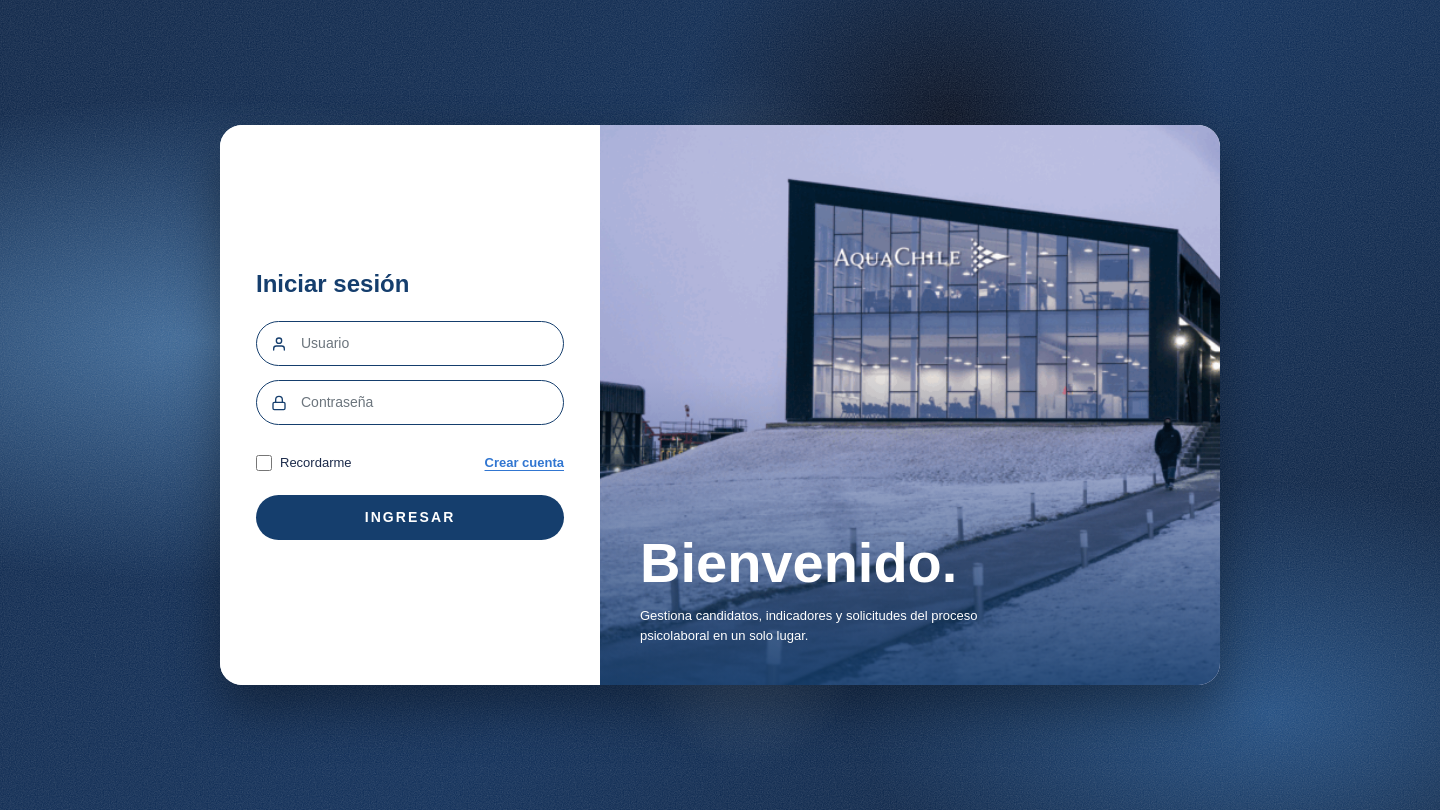
Test: Candidatos: formulario y búsqueda › la búsqueda oculta los candidatos que no coinciden
The width and height of the screenshot is (1440, 810).
Type "admin" into the field labelled "Usuario" at (432, 344), box [301, 322, 563, 365]
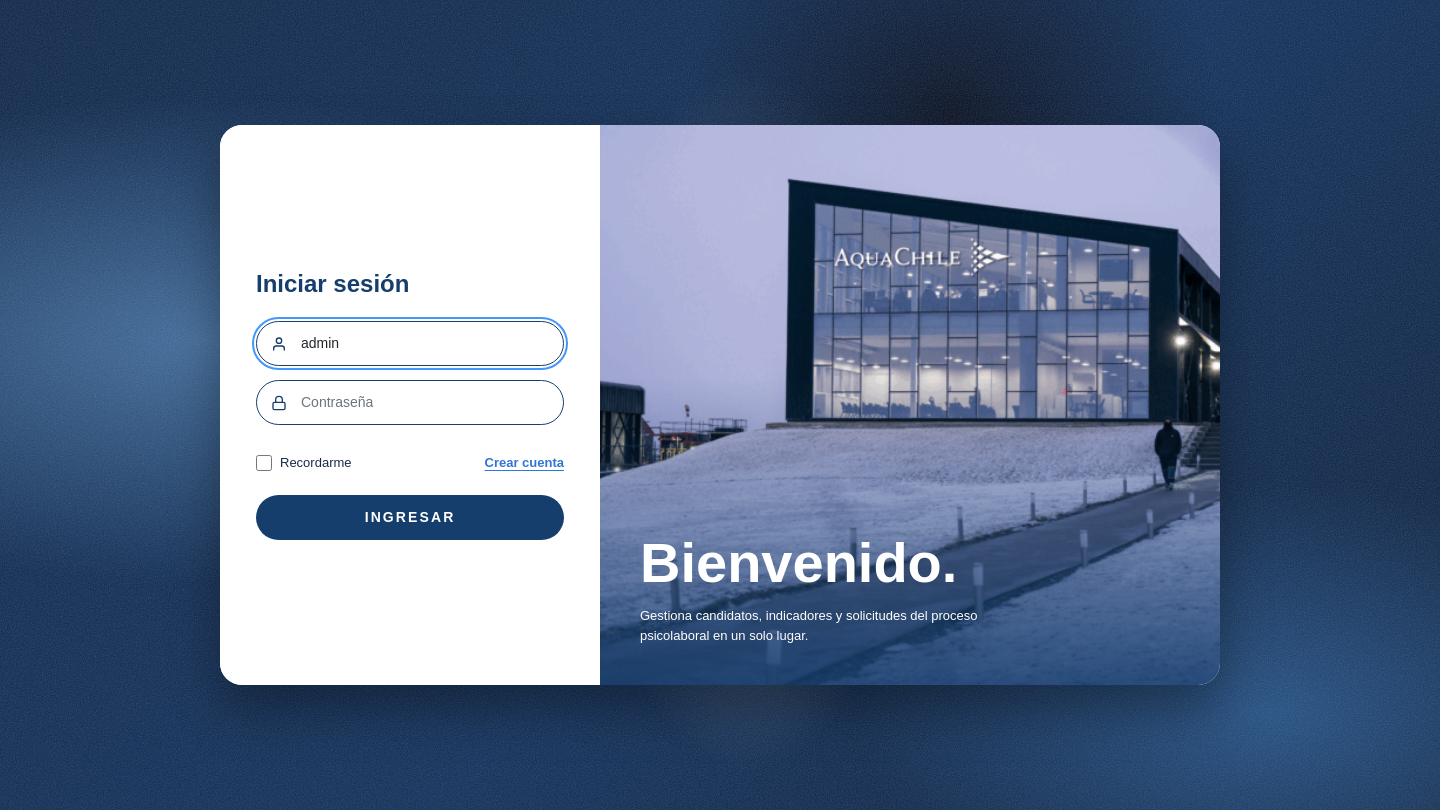
Type "admin123" into the password field labelled "Contraseña" at (432, 403), box [301, 381, 563, 424]
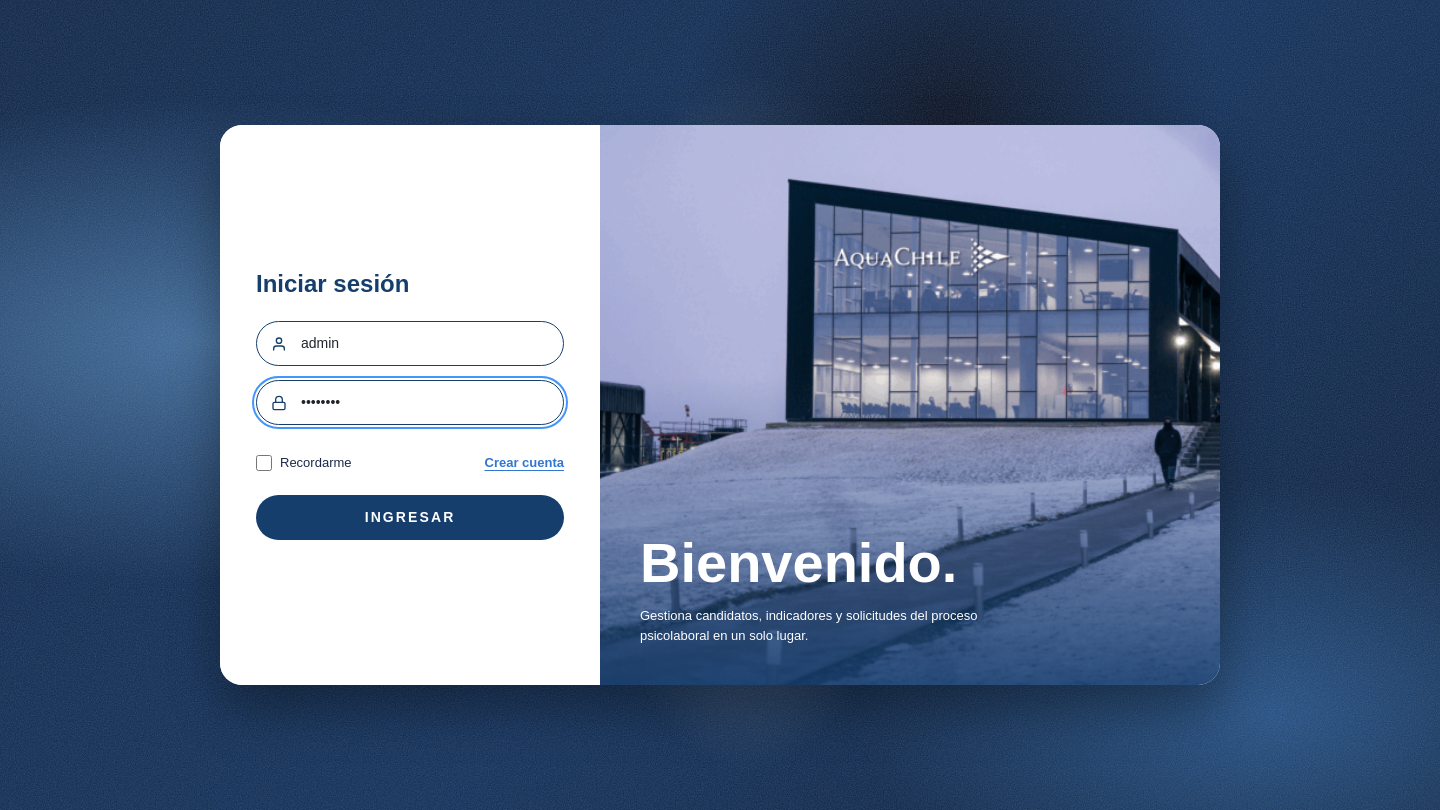
Click the button "INGRESAR" at (410, 517), box [256, 495, 564, 540]
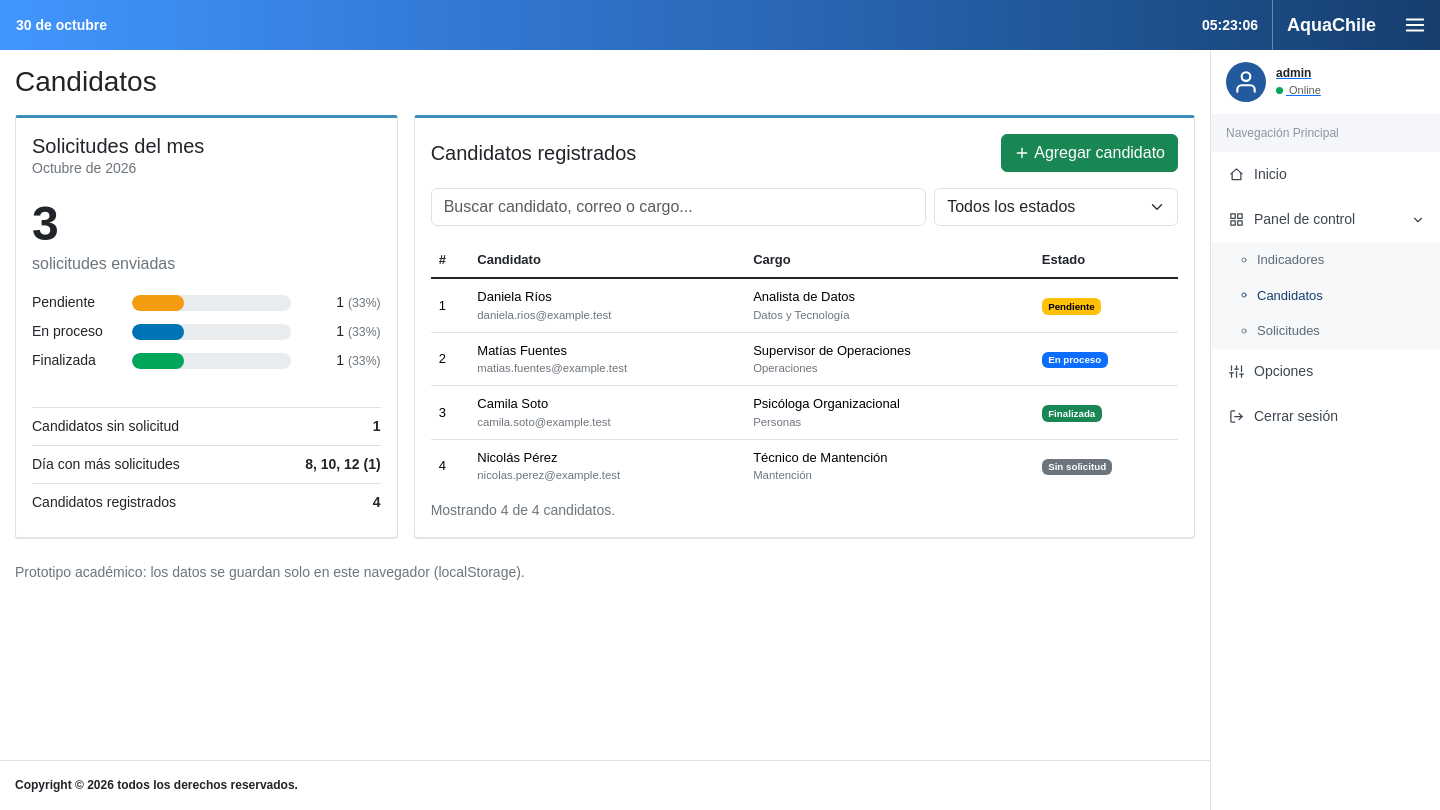
Check: the text "Daniela Ríos daniela.rios@example.test" is shown, box [469, 278, 745, 332]
Type "Matías" into the field labelled "Buscar candidato" at (678, 207), box [431, 188, 926, 226]
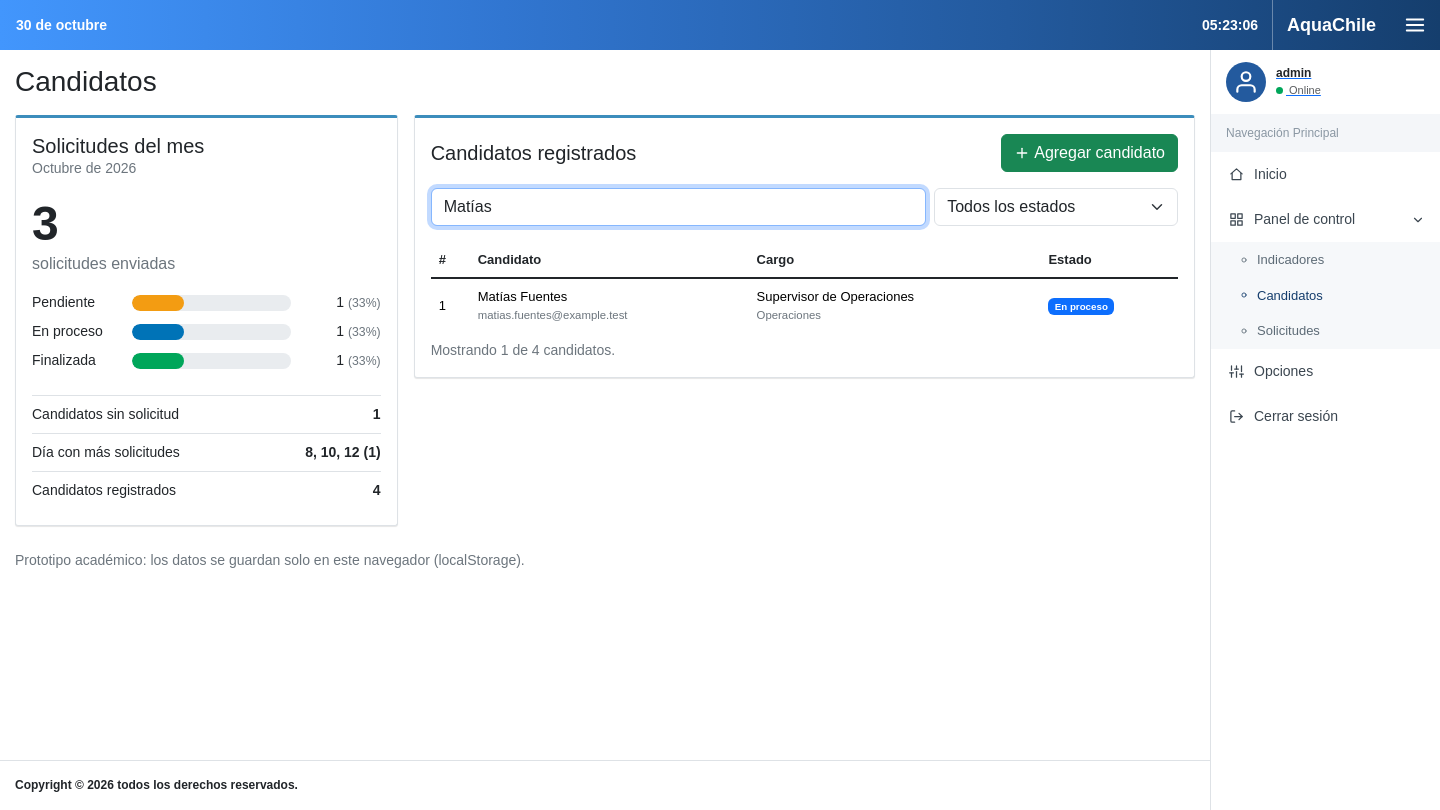
Check: the text "Matías Fuentes matias.fuentes@example.test" is shown, box [470, 278, 749, 332]
Check: the text "Daniela Ríos" is gone
